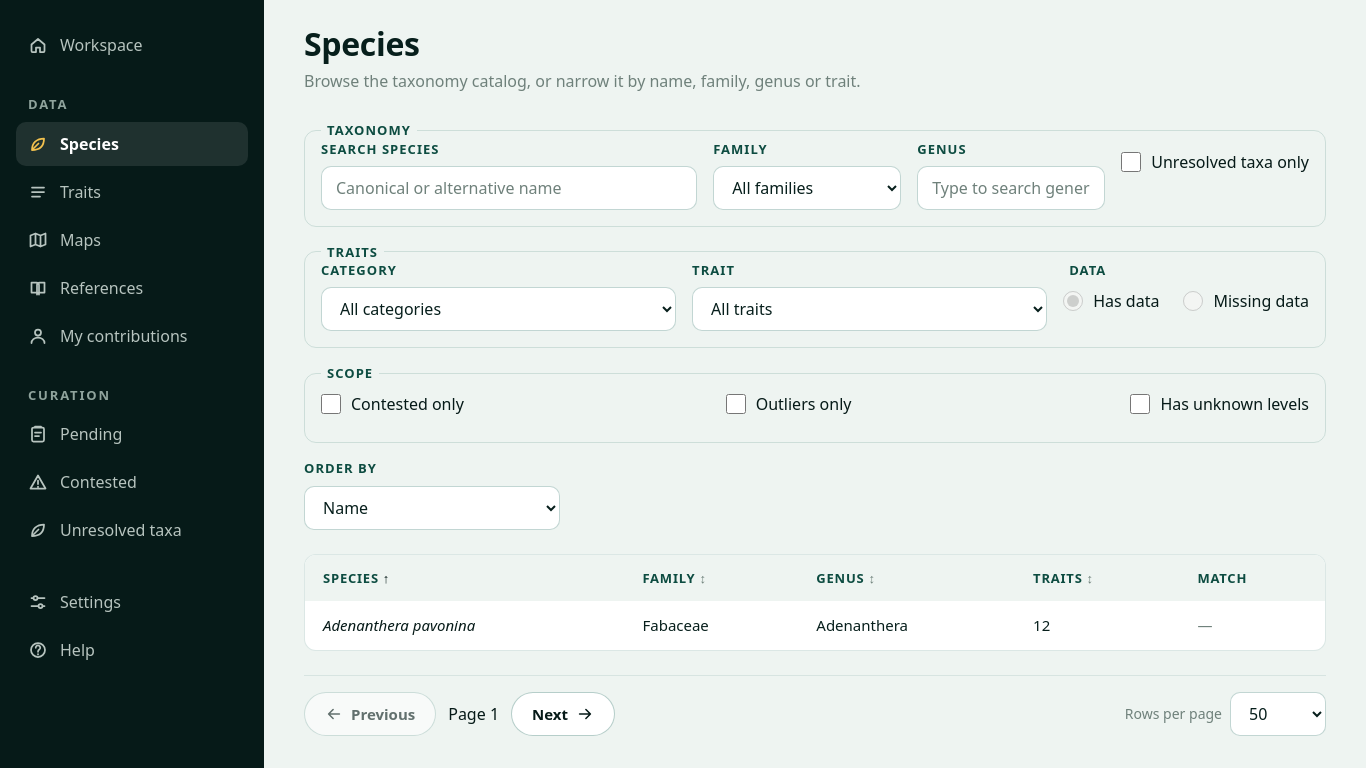
Scenario: RFC-13 R2, RFC-60 R6 SpeciesSearchPage › a new filter starts over at page 1, and the page size is applied from page 1
(page scrolled)
Expected: the heading "Species" is shown, [304,22,420,65]
Expected: the link "Adenanthera pavonina" is shown, [323,615,475,636]
Step 1. Click the button "Next" → (563,714), box [511,692,615,736]
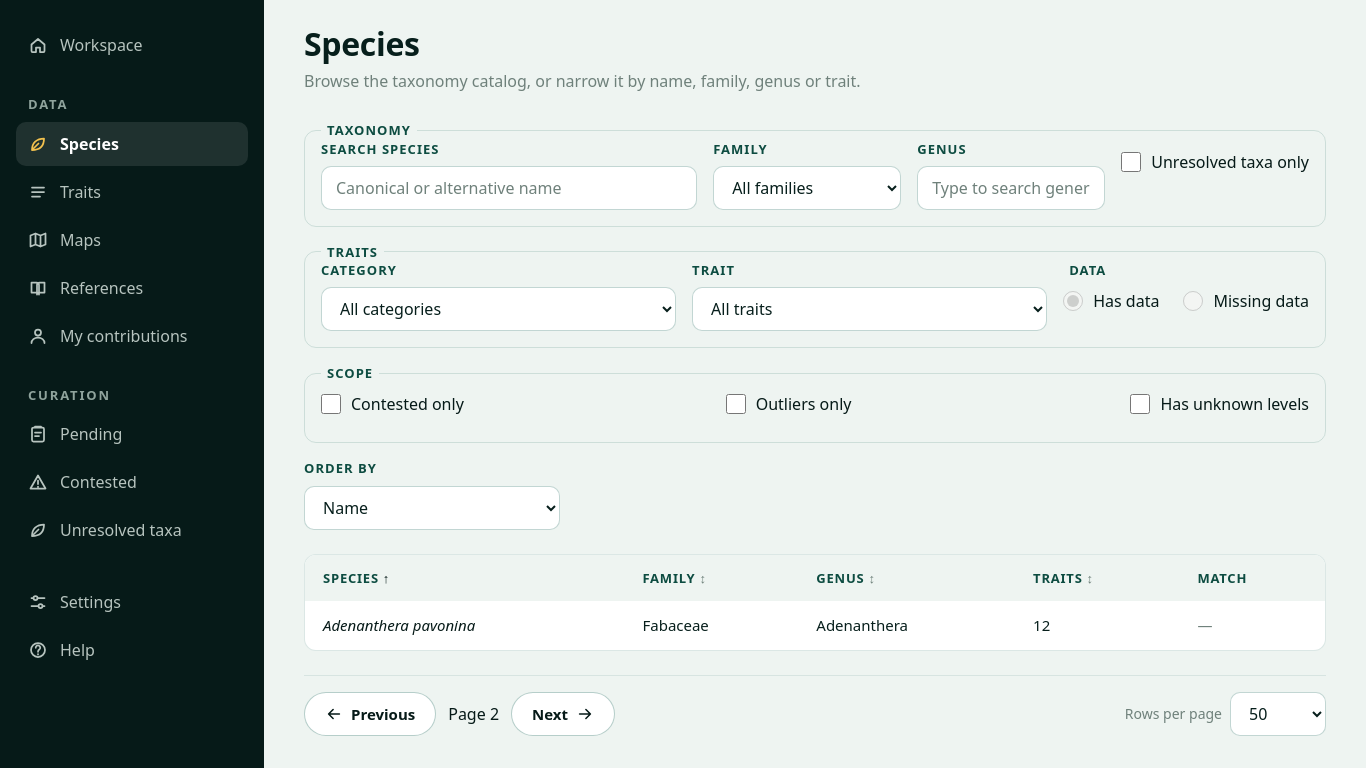
Expected: the text "Page 2" is shown, [448,702,499,726]
Step 2. Click the checkbox labelled "Unresolved taxa only" → (1131,162), box [1121,152,1141,172]
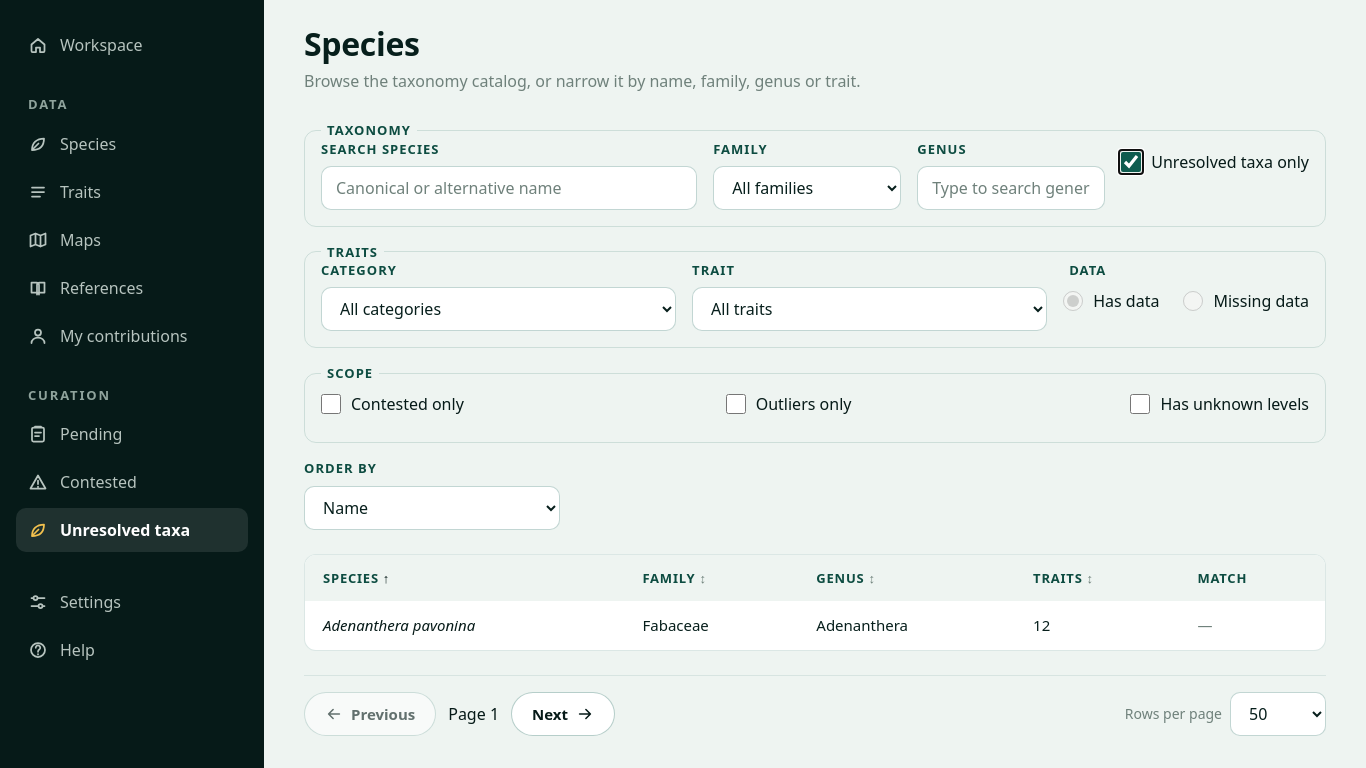
Expected: the text "Page 1" is shown, [448,702,499,726]
Step 3. Click the button "Next" → (563,714), box [511,692,615,736]
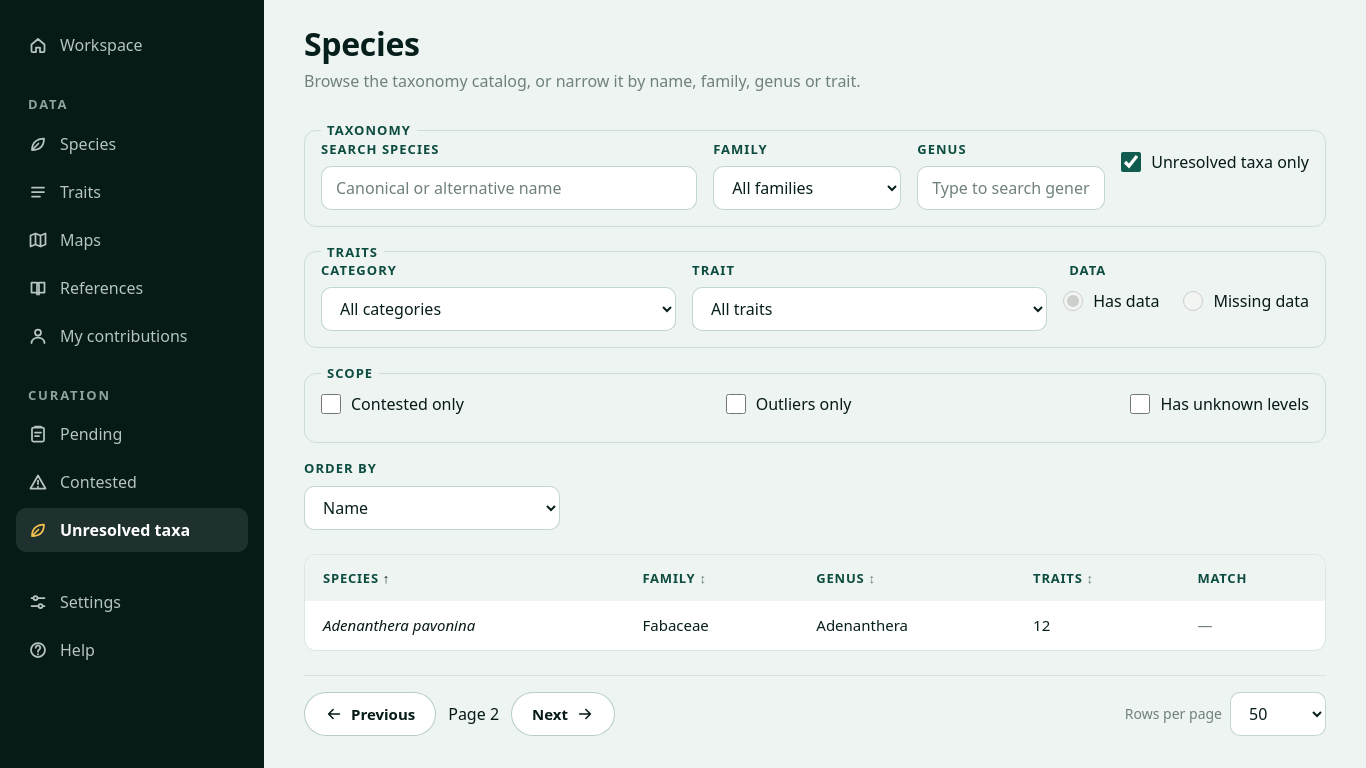
Expected: the text "Page 2" is shown, [448,702,499,726]
Step 4. Select "25" in the dropdown labelled "Rows per page" → (1278,714), box [1230,692,1326,736]
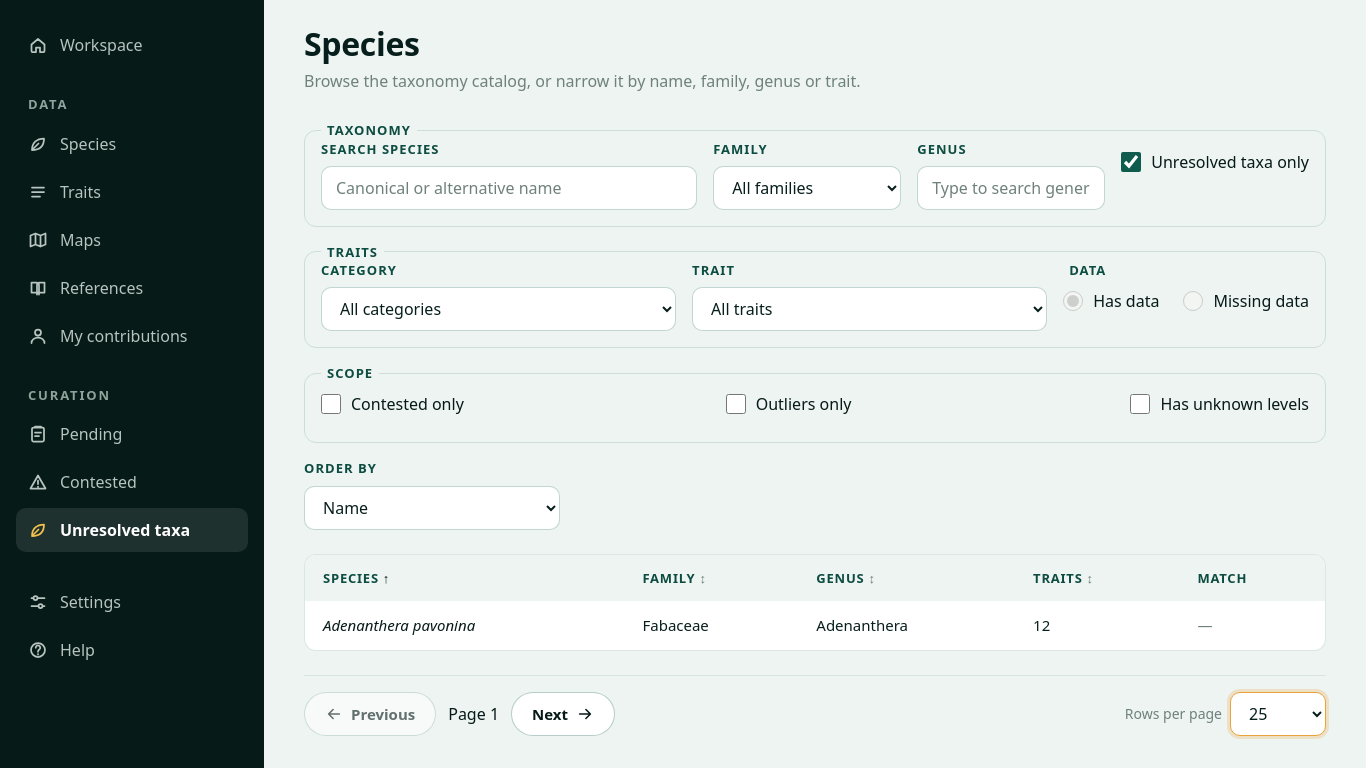
Expected: the text "Page 1" is shown, [448,702,499,726]
